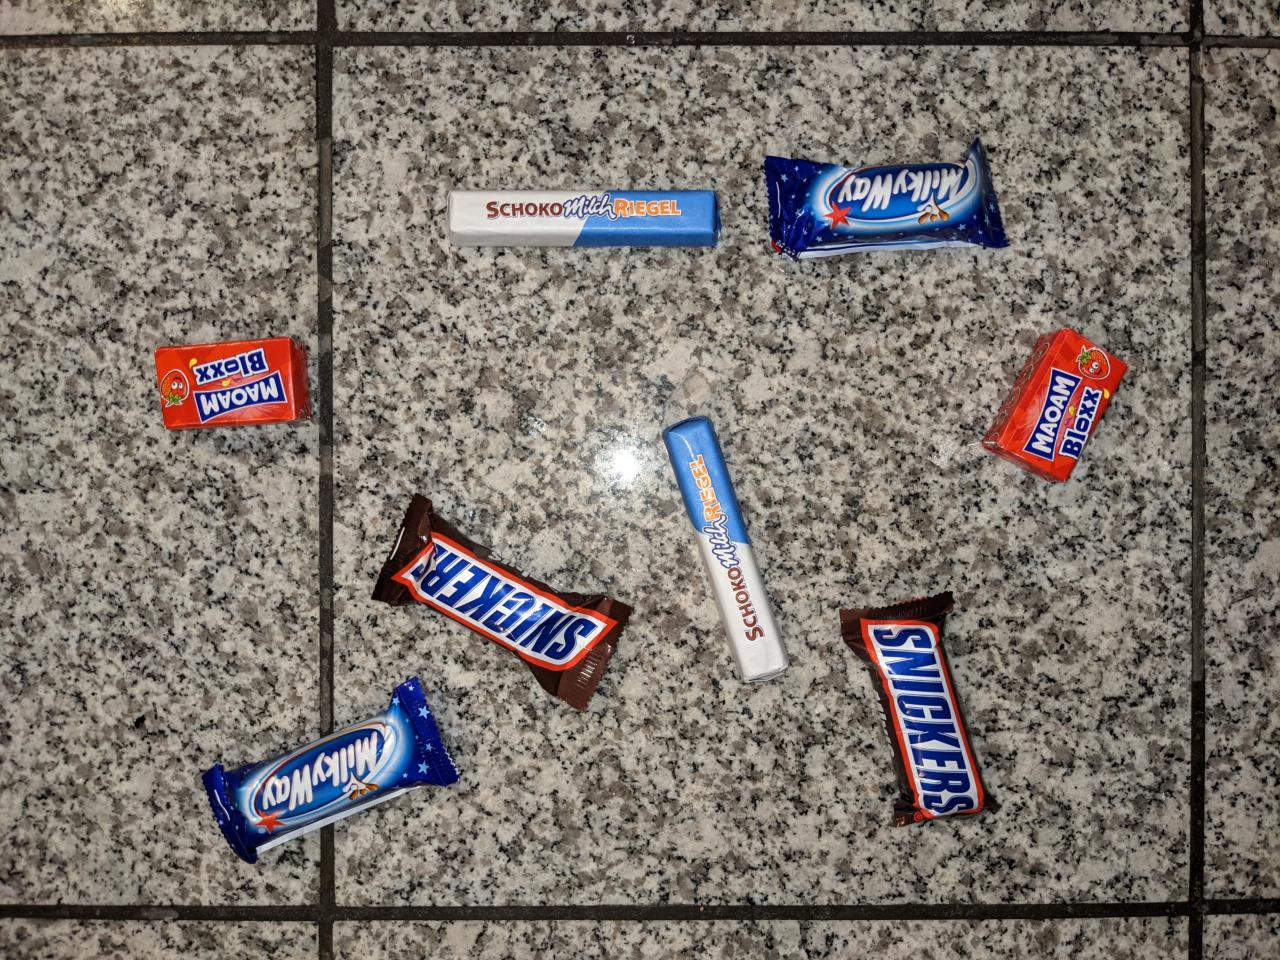MAOAM: (979, 320, 1132, 489), (150, 332, 312, 438)
MilkyWay: (193, 670, 465, 871), (758, 131, 1014, 269)
Schokoriegel: (657, 411, 795, 689), (440, 181, 726, 252)
Snickers: (366, 488, 639, 718), (833, 587, 1003, 830)
